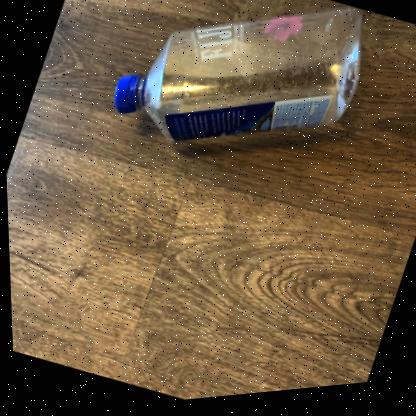Plastic: (113, 13, 361, 144)
